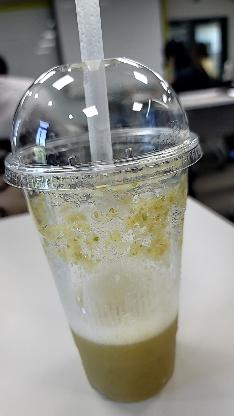Plastic Cup: (4, 57, 204, 401)
